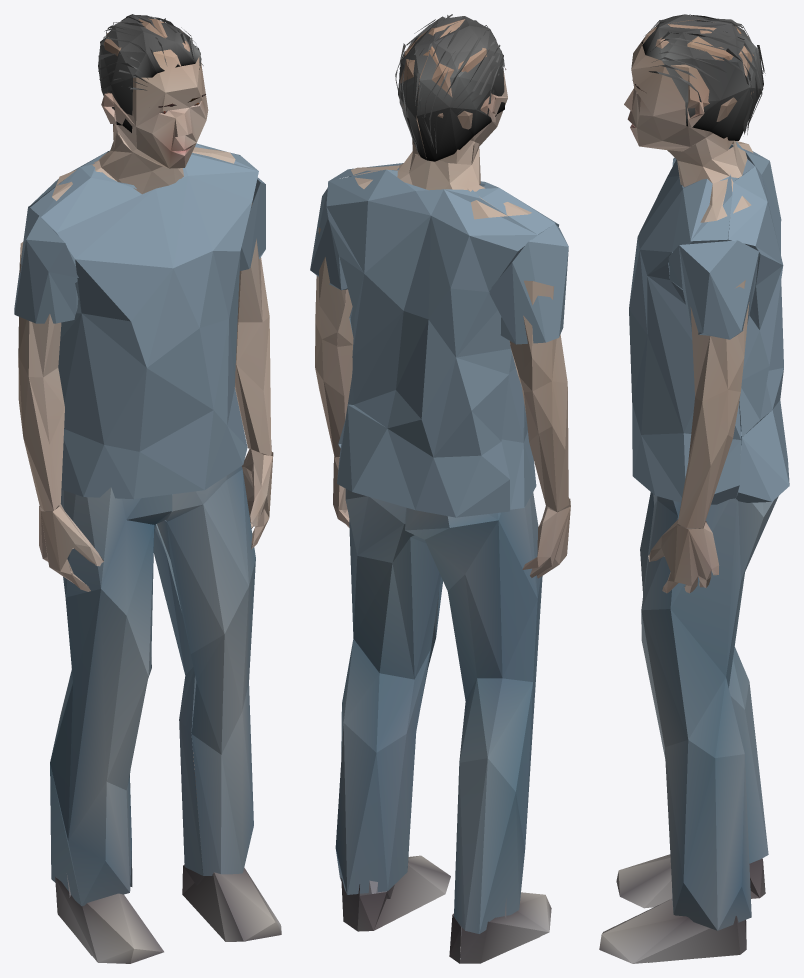
The model's file is person-1-far.glb.
The picture shows the model from 3 angles, left to right: view 1: azimuth 30°, elevation 25°; view 2: azimuth 150°, elevation 25°; view 3: azimuth 270°, elevation 25°; orthographic projection.
Visible parts, largest first — view 1: person-1 far; view 2: person-1 far; view 3: person-1 far.
Part boxes in pixels (left/top/right/bottom): person-1 far: left=14, top=14, right=281, bottom=963; person-1 far: left=310, top=14, right=570, bottom=963; person-1 far: left=599, top=14, right=789, bottom=963.
Bounding box in the file's own units: 0.5092 × 1.79 × 0.3431.
